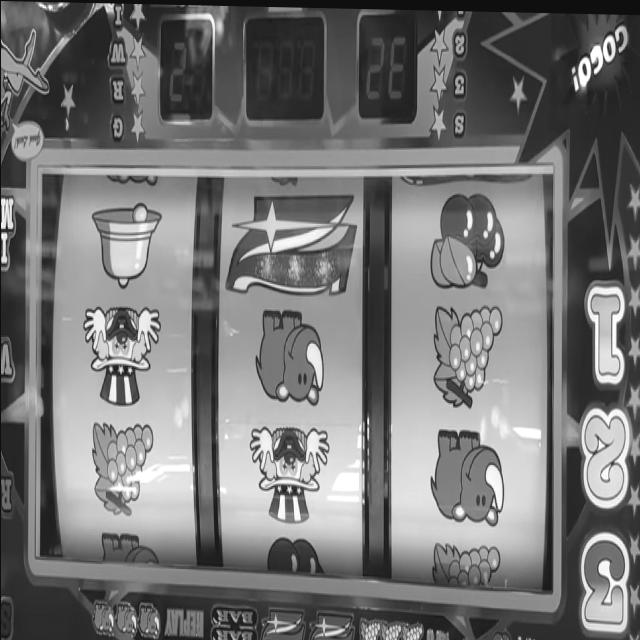bar: (209, 600, 257, 640)
bell: (90, 197, 160, 292)
cherry: (426, 188, 504, 293), (264, 535, 328, 573), (488, 628, 512, 640)
clown: (82, 295, 162, 409), (249, 419, 331, 529)
display: (28, 158, 554, 594)
elephant: (428, 421, 503, 529), (253, 302, 325, 411), (100, 532, 160, 563), (137, 601, 161, 636), (114, 598, 136, 636), (92, 600, 114, 630)
grape: (429, 300, 502, 410), (89, 416, 152, 519), (428, 538, 502, 589), (401, 614, 424, 640), (359, 615, 382, 640), (381, 617, 400, 640)
z: (223, 186, 357, 300), (262, 603, 304, 640), (307, 608, 353, 640)
